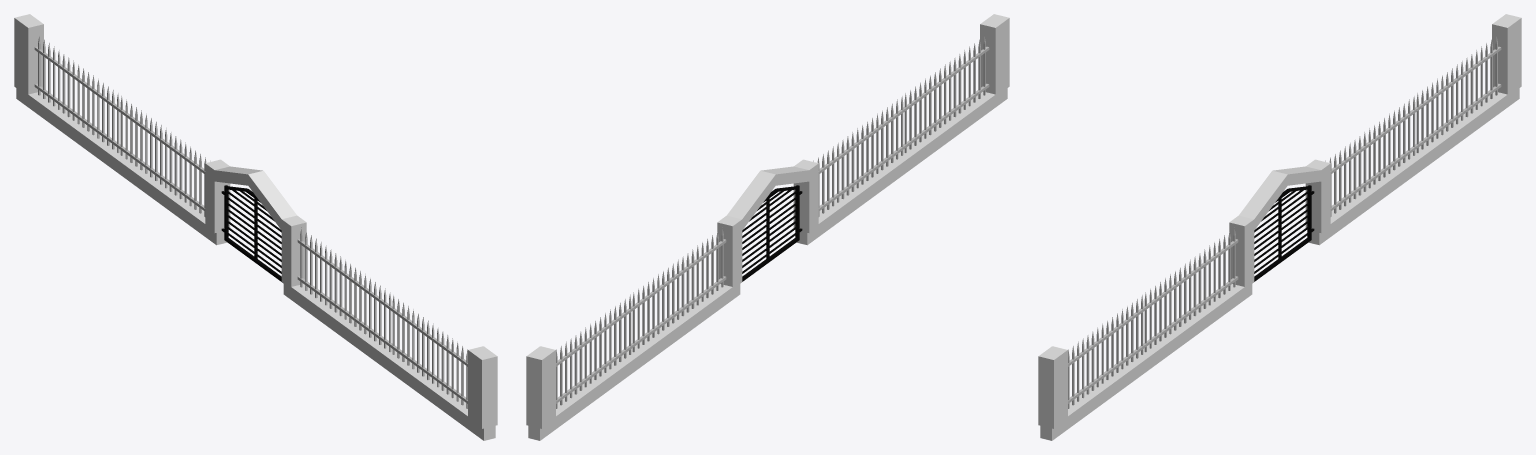
File: Rockfense.fbx
3 renders of one model, left to right at view 1: azimuth 30°, elevation 25°; view 2: azimuth 150°, elevation 25°; view 3: azimuth 330°, elevation 25°, orthographic.
Visible parts, largest first — view 1: Cube, Cube.004; view 2: Cube, Cube.004; view 3: Cube, Cube.004.
Boxes of the visible parts, x1,y1,x2,y2 form: Cube: [14, 14, 497, 440]; Cube.004: [34, 35, 467, 408]; Cube: [526, 14, 1009, 440]; Cube.004: [556, 35, 989, 408]; Cube: [1038, 14, 1521, 440]; Cube.004: [1068, 35, 1501, 408].
Size of the model in its own units: 261 by 1537 by 13596.
